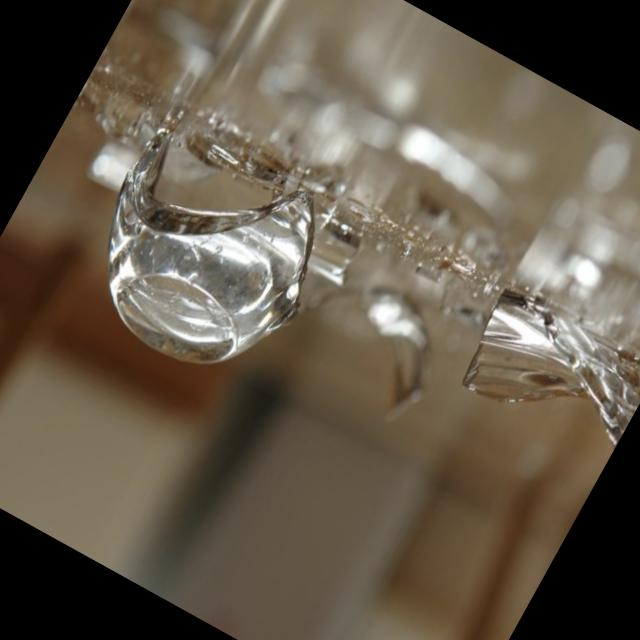PecahanKaca: (56, 107, 354, 406), (450, 281, 640, 468)
